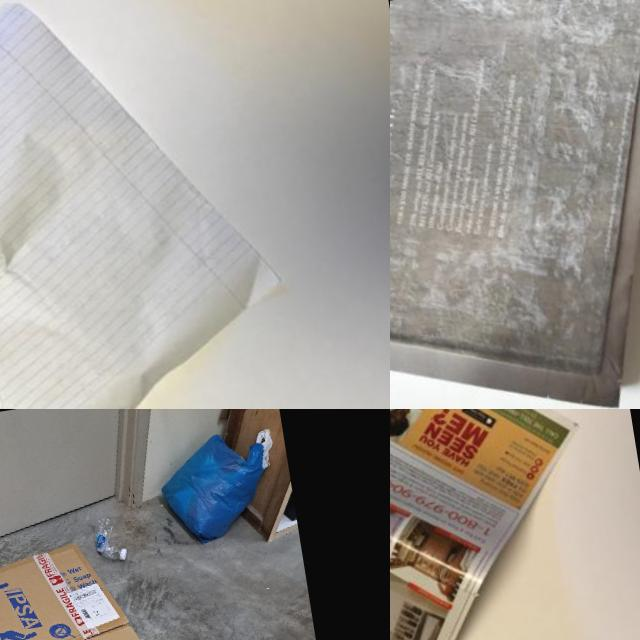garrafa plástica: (92, 516, 122, 562)
papel: (0, 0, 301, 409), (390, 0, 640, 409), (390, 409, 612, 640)
papelão: (0, 531, 182, 640)
sacola plástica: (155, 428, 277, 550)
tampa plástica: (119, 548, 128, 560)
